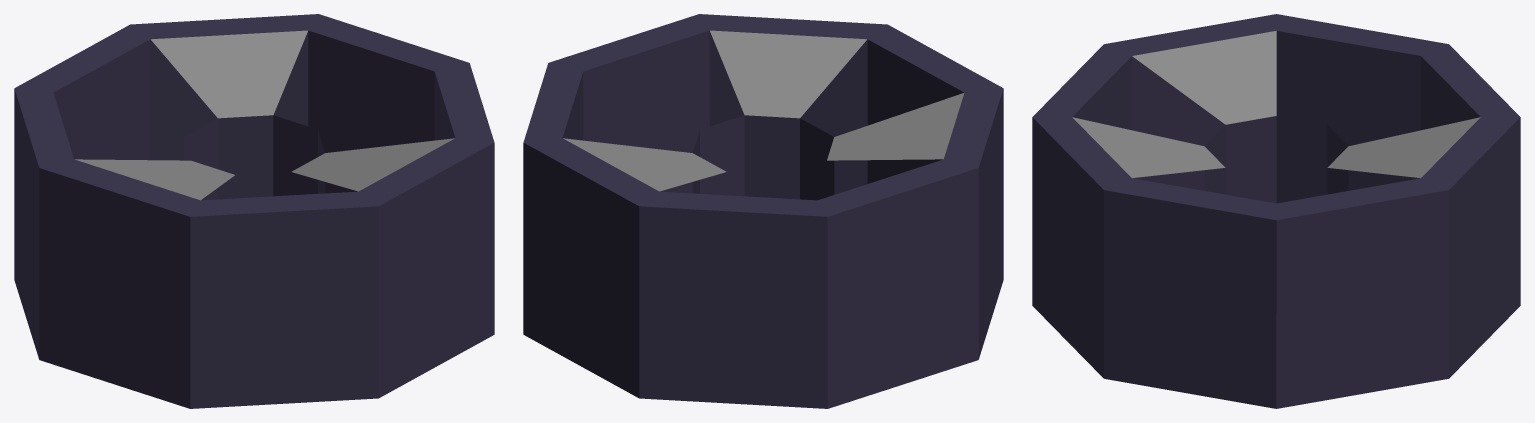
File: ventoinha.fbx
The picture shows the model from 3 angles, left to right: view 1: azimuth 30°, elevation 25°; view 2: azimuth 150°, elevation 25°; view 3: azimuth 270°, elevation 25°; orthographic projection.
Parts seen in each view (by area): view 1: Cylinder.001; view 2: Cylinder.001; view 3: Cylinder.001.
Boxes of the visible parts, bbox=[...] form: Cylinder.001: bbox=[14, 14, 494, 408]; Cylinder.001: bbox=[523, 14, 1003, 408]; Cylinder.001: bbox=[1032, 14, 1520, 408].
Size of the model in its own units: 200 by 85.3 by 200.
